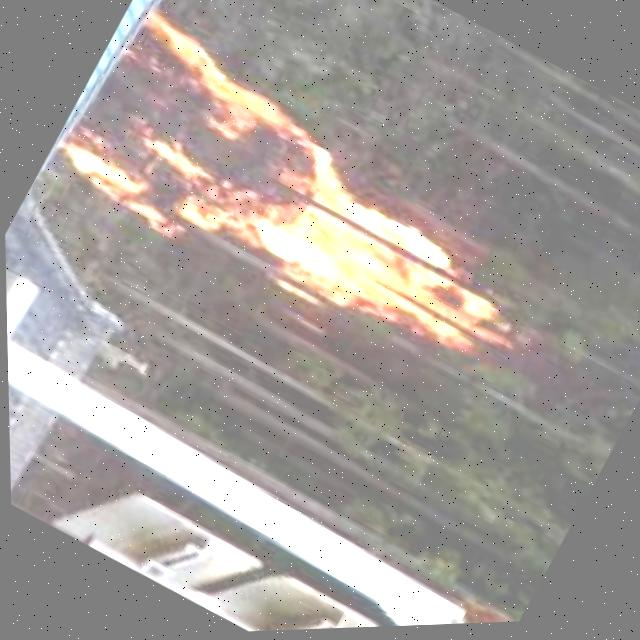Fire: (45, 0, 560, 406)
